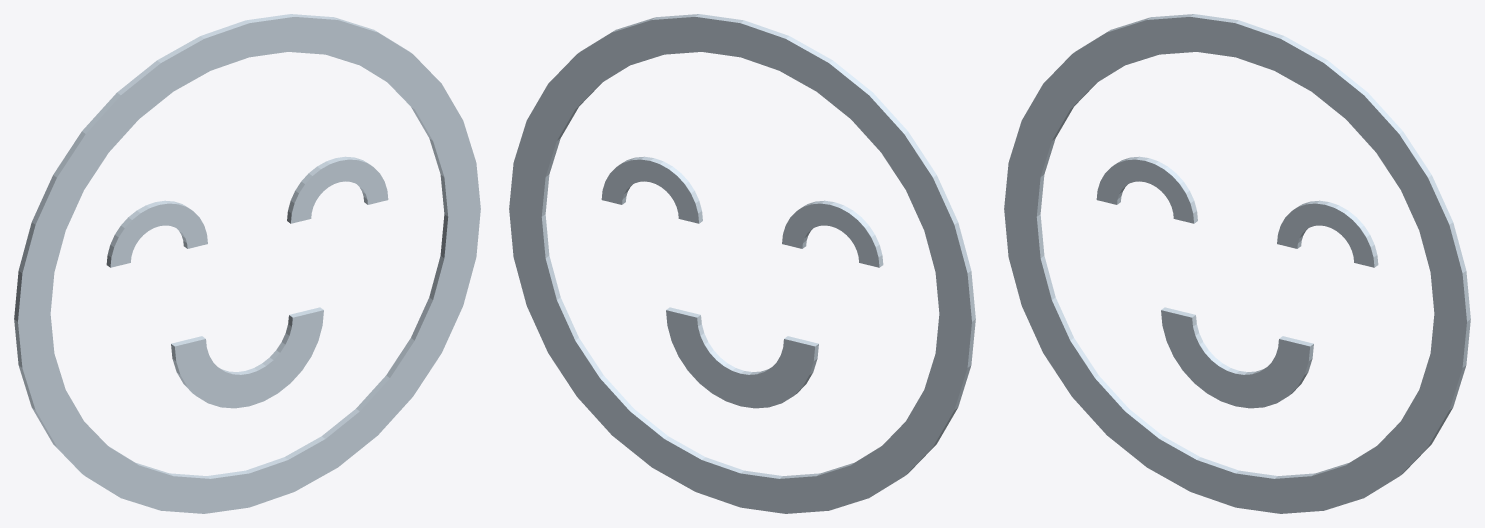
Rendered from Happy_Face_3D_Icon_03.fbx.
3 views of the same model, side by side, from view 1: azimuth 30°, elevation 25°; view 2: azimuth 150°, elevation 25°; view 3: azimuth 330°, elevation 25° (orthographic).
Parts seen in each view (by area): view 1: Happy_Face_3D_Icon_03; view 2: Happy_Face_3D_Icon_03; view 3: Happy_Face_3D_Icon_03.
Boxes of the visible parts, left/top/right/bottom form: Happy_Face_3D_Icon_03: left=14, top=14, right=480, bottom=513; Happy_Face_3D_Icon_03: left=509, top=14, right=975, bottom=513; Happy_Face_3D_Icon_03: left=1004, top=14, right=1470, bottom=513.
Bounding box in the file's own units: 139 × 139 × 2.
